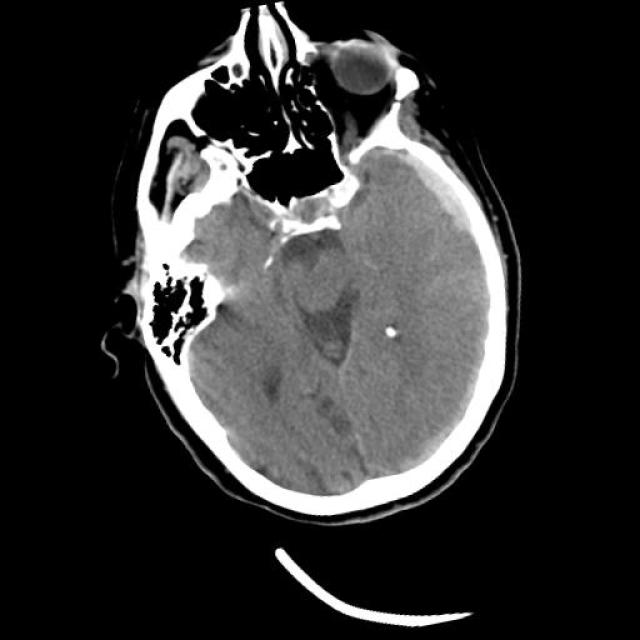Subdural: (370, 113, 492, 261)
